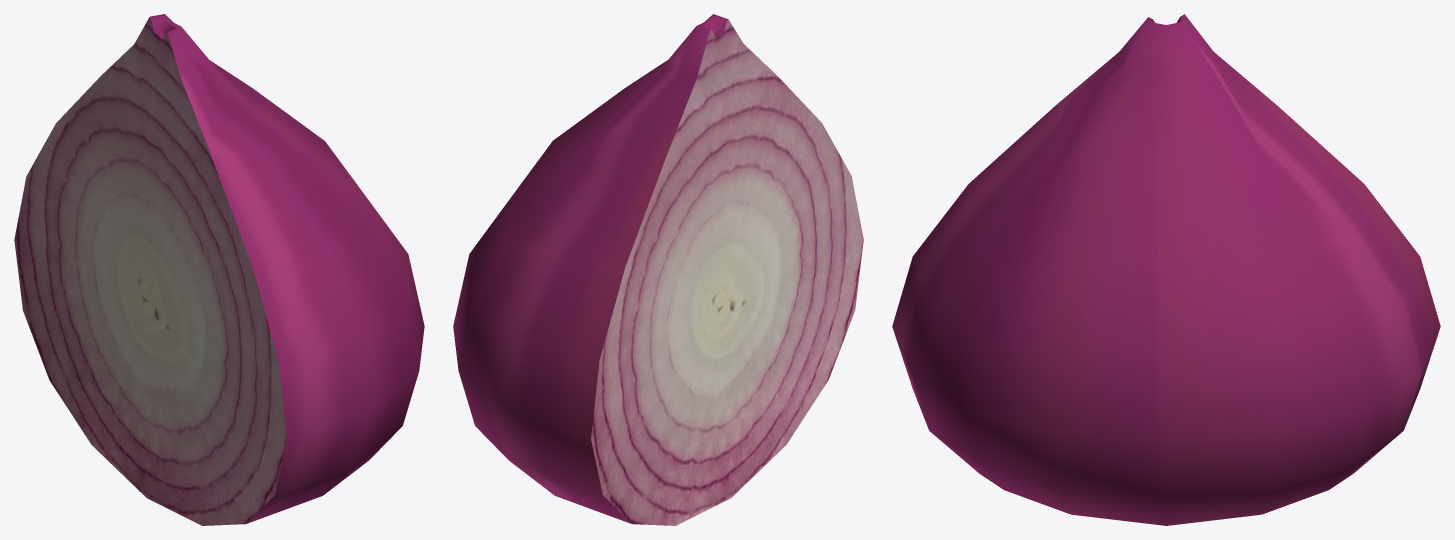
File: CEBOLLA_CORTADA.fbx
The picture shows the model from 3 angles, left to right: view 1: azimuth 30°, elevation 25°; view 2: azimuth 150°, elevation 25°; view 3: azimuth 270°, elevation 25°; orthographic projection.
Visible parts, largest first — view 1: CEBOLLA034; view 2: CEBOLLA034; view 3: CEBOLLA034.
Boxes of the visible parts, bbox=[...] form: CEBOLLA034: bbox=[14, 14, 424, 525]; CEBOLLA034: bbox=[453, 14, 863, 525]; CEBOLLA034: bbox=[892, 14, 1440, 525].
Bounding box in the file's own units: 3.79 × 7.1 × 7.44.
Materials: 2 (2 with a texture image).
